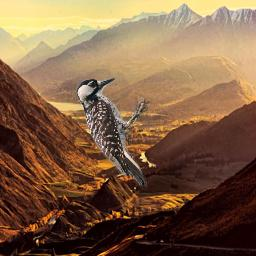Woodpecker: (76, 77, 150, 187)
